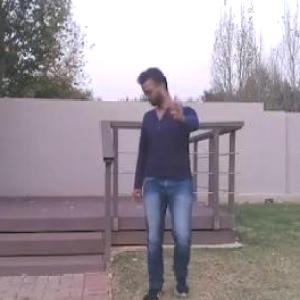takeoff-hand: (160, 85, 188, 123)
